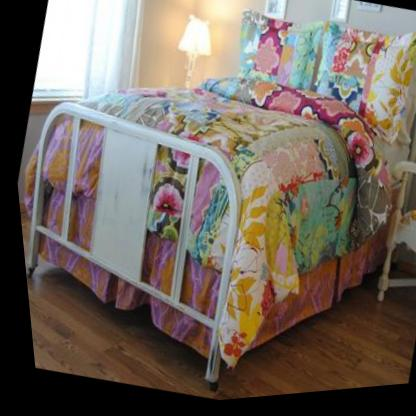Bed: (19, 14, 416, 393)
Wooden floor: (21, 267, 206, 400)
